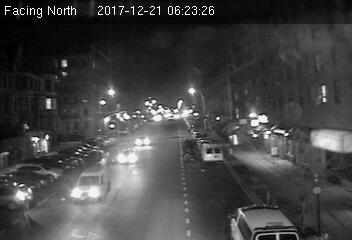car: (115, 148, 140, 166), (134, 136, 154, 148)
police: (228, 204, 303, 240)
truck: (70, 166, 113, 205), (202, 143, 224, 164)
